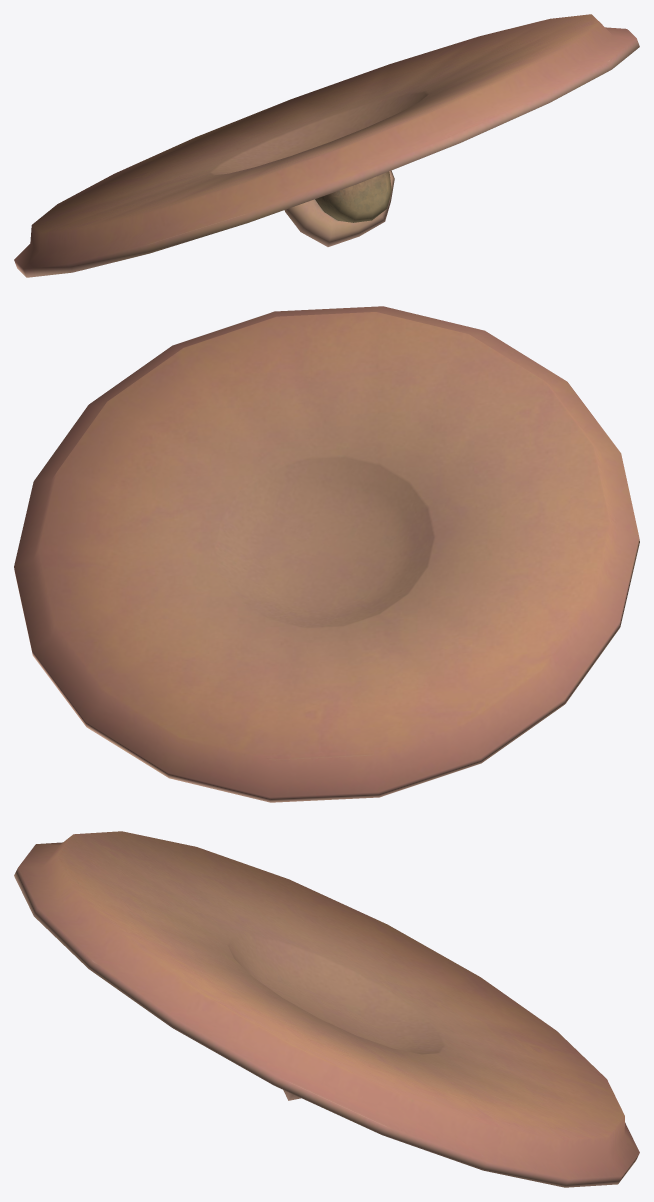
Rendered from lid.obj.
The picture shows the model from 3 angles, top to bottom: view 1: azimuth 30°, elevation 25°; view 2: azimuth 150°, elevation 25°; view 3: azimuth 270°, elevation 25°; orthographic projection. The views are drawn at different scales.
Visible parts, largest first — view 1: dynamic; view 2: dynamic; view 3: dynamic.
Boxes of the visible parts, x1,y1,x2,y2 form: dynamic: (14, 14, 639, 277); dynamic: (14, 306, 639, 802); dynamic: (14, 831, 639, 1187).
Size of the model in its own units: 16.93 by 8.35 by 15.61.
2 materials, 2 textured.
